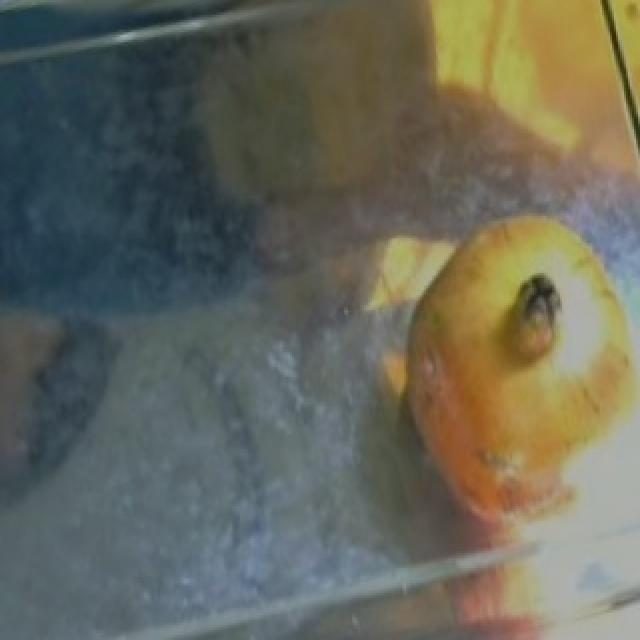fruit: (384, 186, 640, 404)
